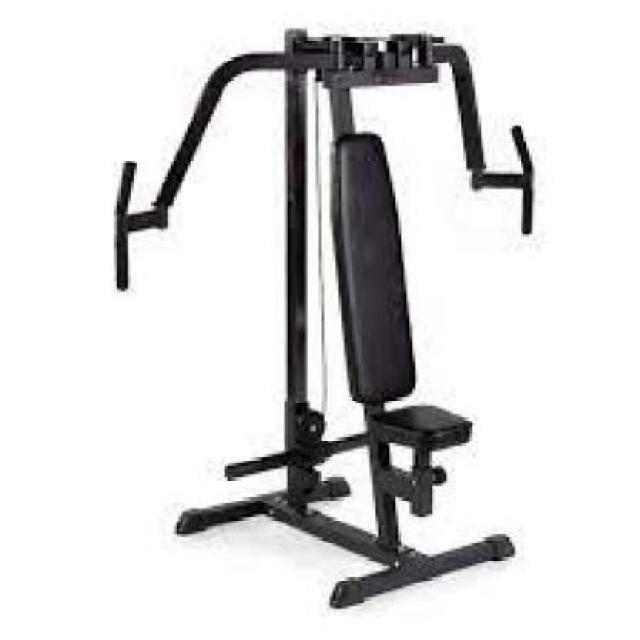chest fly machine: (103, 22, 565, 606)
